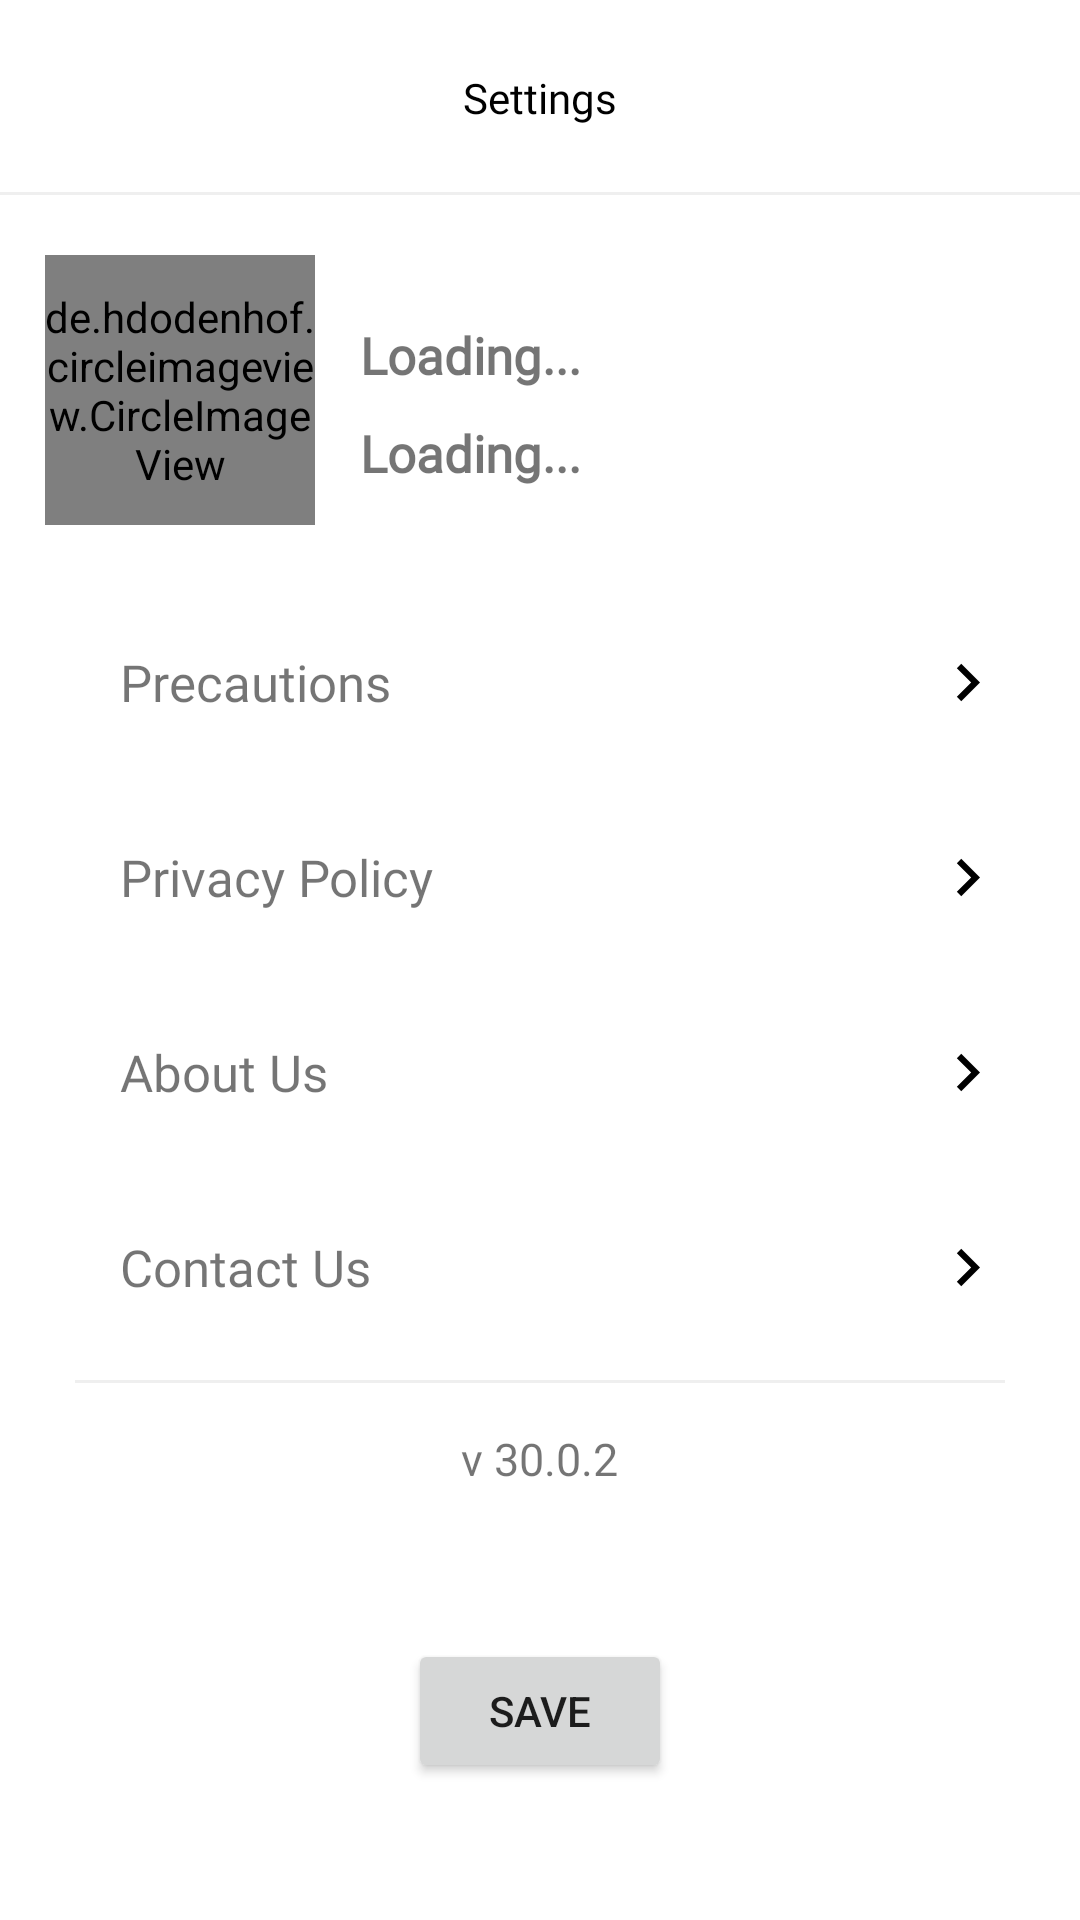

Locate icon controls on the screen. Image size 1080x1920, boxes as (x1, y1, x2, y2).
keyboard arrow right: (957, 664, 980, 701), (957, 859, 980, 896), (957, 1054, 980, 1091), (957, 1249, 980, 1286)
